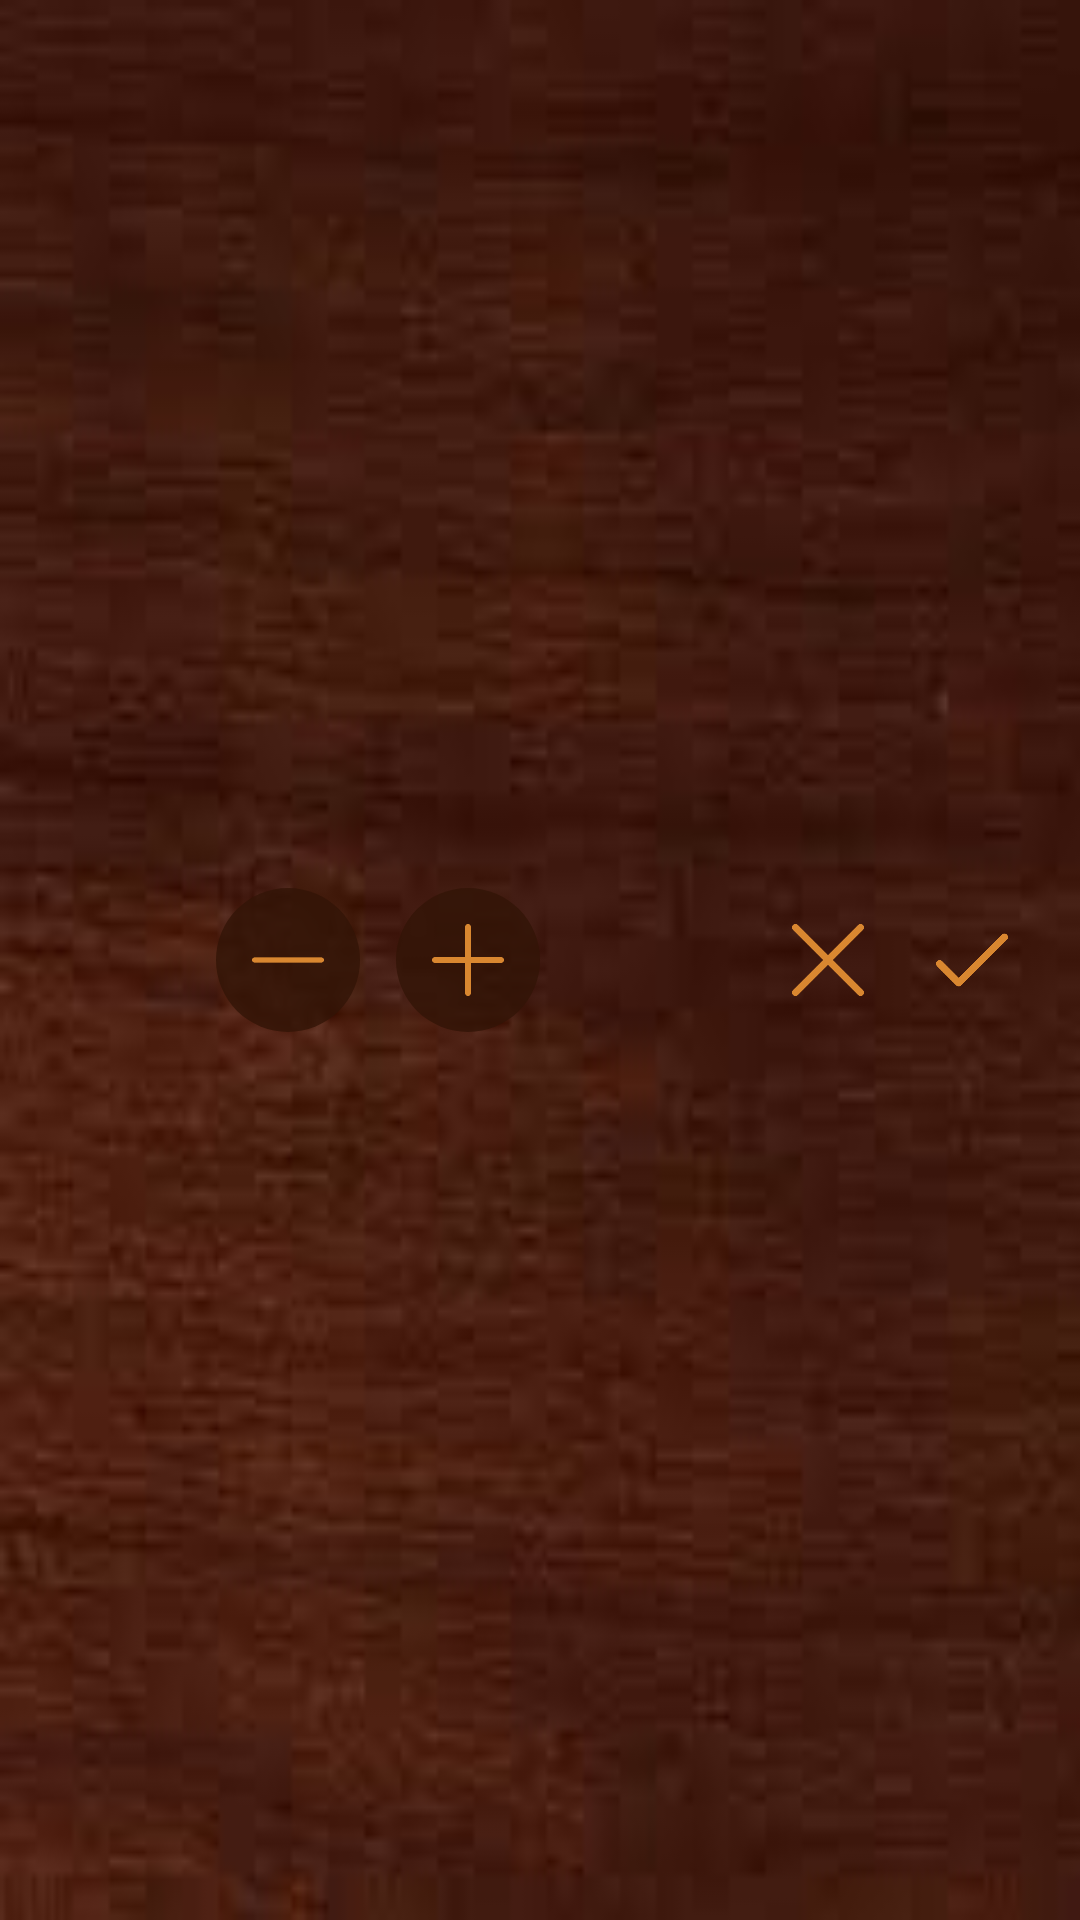

Icon bounding boxes for this 1080×1920 phone screenshot, format (x1, y1, x2, y2):
check: (936, 933, 1008, 987)
close: (792, 924, 864, 996)
plus: (432, 924, 504, 996)
